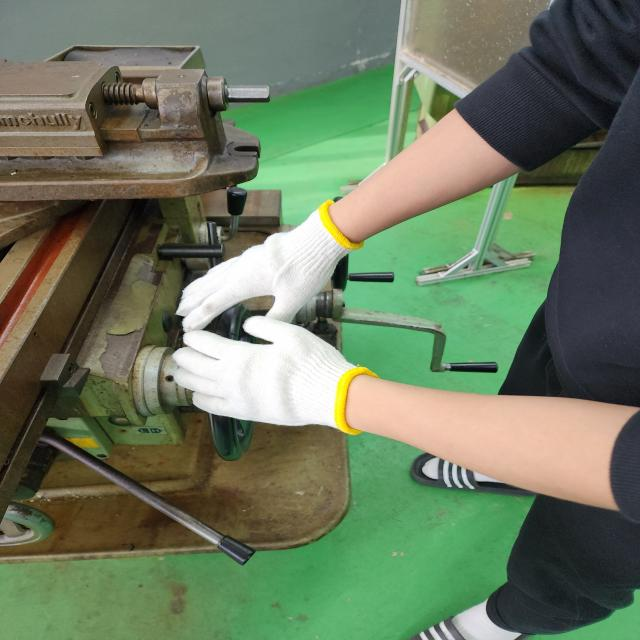Boots: (168, 318, 368, 436), (176, 205, 356, 310)
